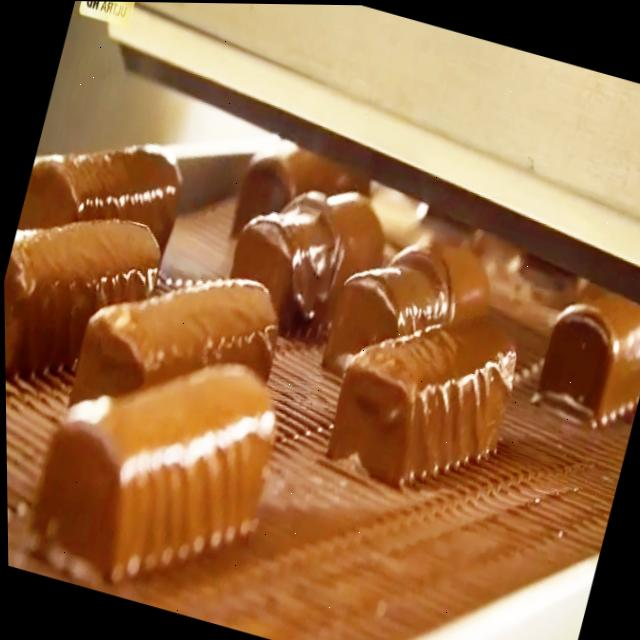Choco: (16, 314, 297, 615), (61, 233, 295, 456), (316, 278, 532, 512), (316, 207, 504, 409), (16, 107, 196, 270), (223, 156, 389, 322), (527, 272, 640, 431), (217, 132, 354, 251)
